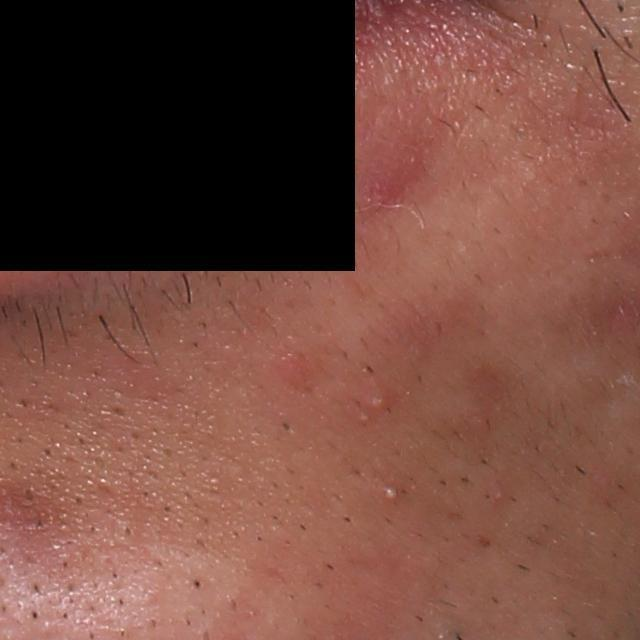comedo: (120, 524, 135, 540)
pustule: (361, 388, 391, 415), (378, 477, 406, 505)
